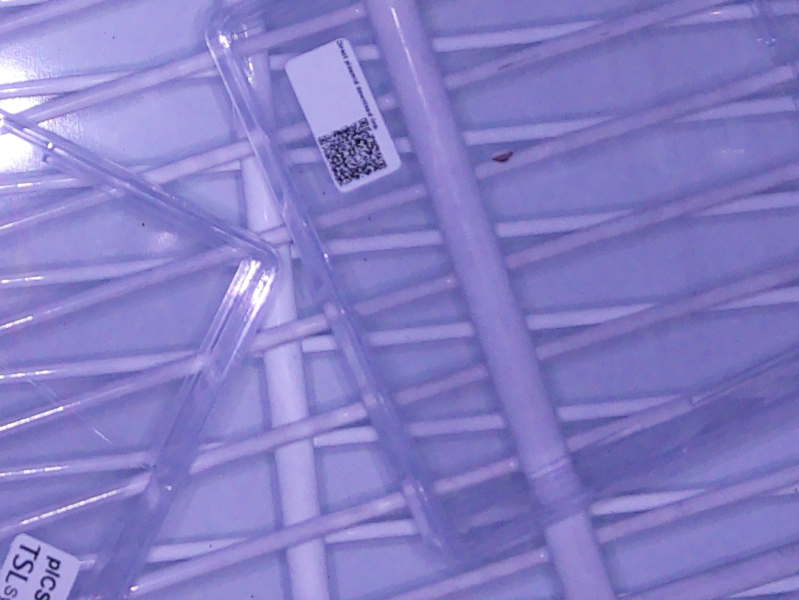plate: (197, 1, 799, 574), (1, 116, 283, 600)
